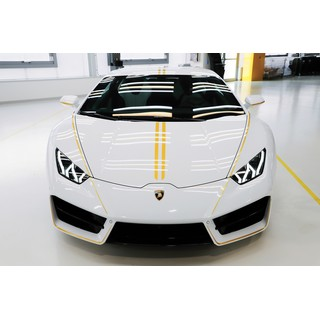car: (46, 63, 277, 251)
